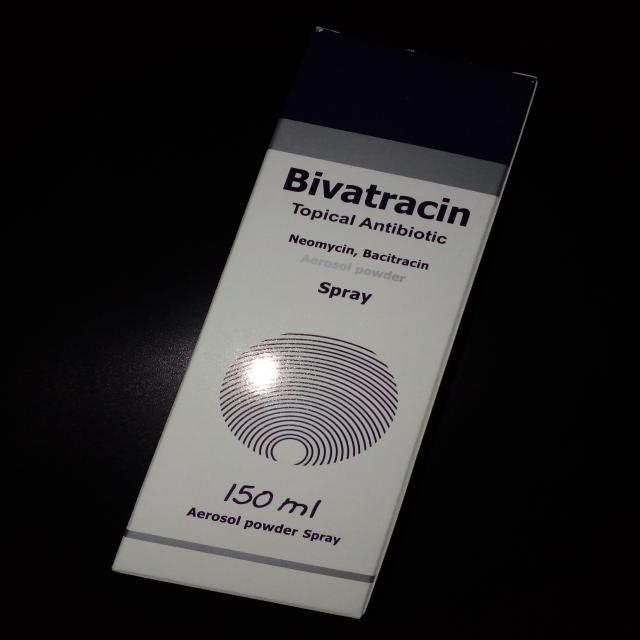Medicine: (112, 28, 540, 619)
